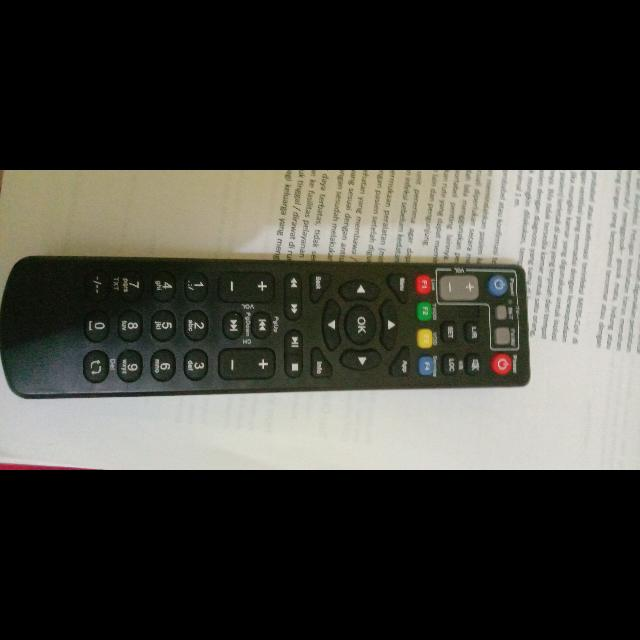TV-Remote-Control: (2, 260, 535, 397)
